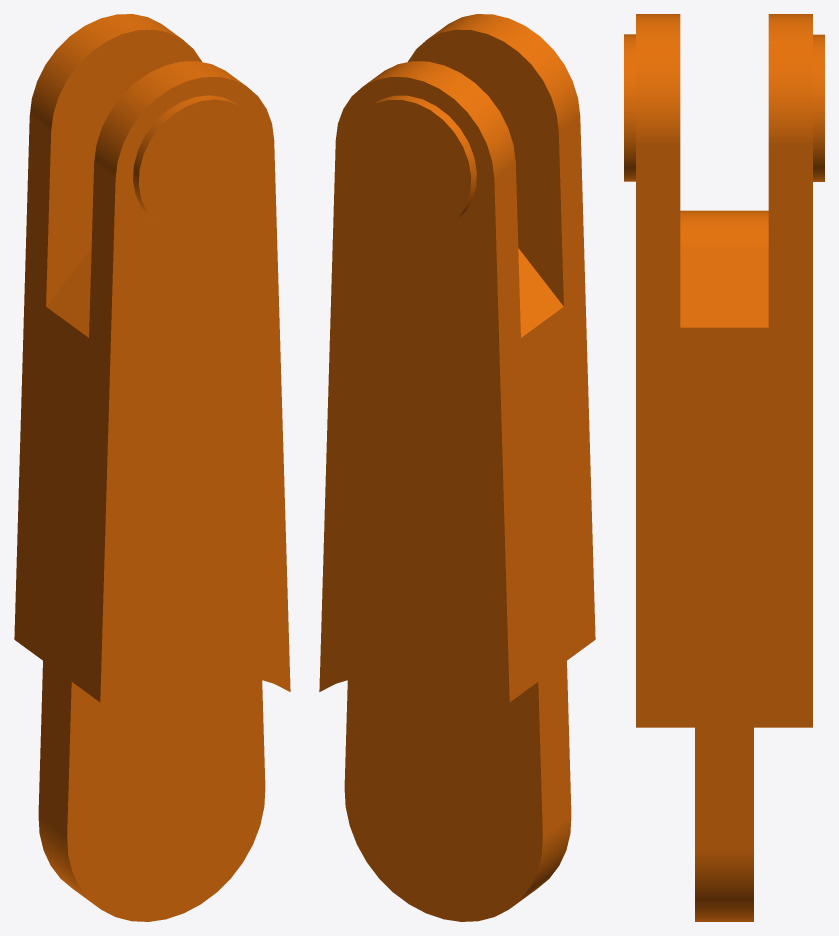
3 renders of one model, left to right at view 1: azimuth 30°, elevation 25°; view 2: azimuth 150°, elevation 25°; view 3: azimuth 270°, elevation 25°, orthographic. The views are drawn at different scales.
Parts seen in each view (by area): view 1: Body1; view 2: Body1; view 3: Body1.
Boxes of the visible parts, box(x1,y1,x2,y2) form: Body1: box(14, 14, 290, 921); Body1: box(319, 14, 595, 921); Body1: box(624, 14, 824, 921).
Bounding box in the file's own units: 0.3998 × 0.34 × 1.66.
